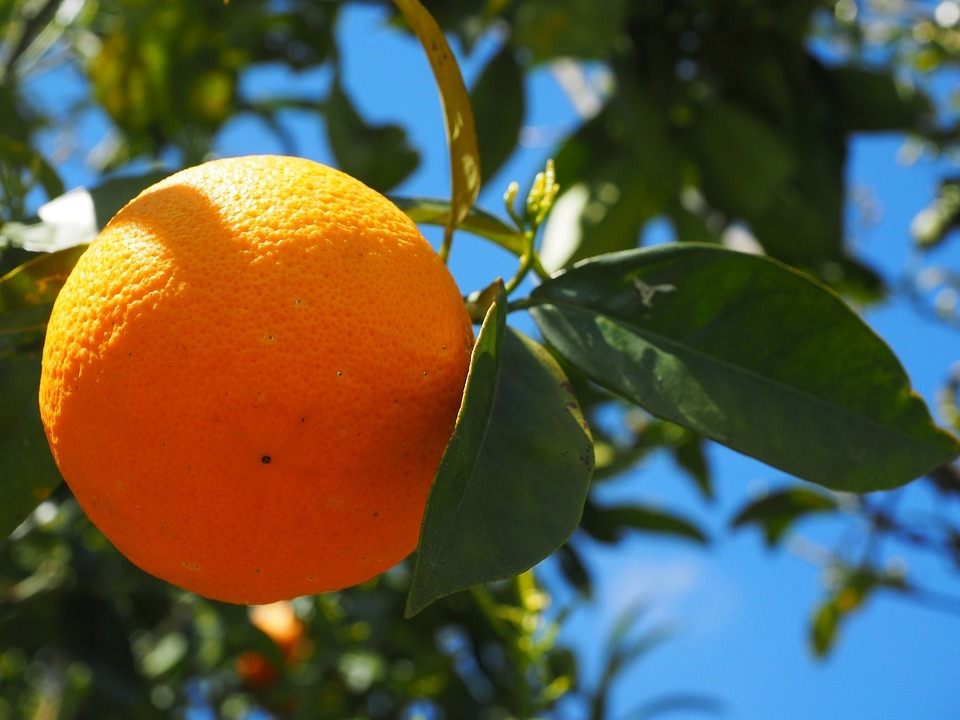orange: (36, 158, 492, 644)
